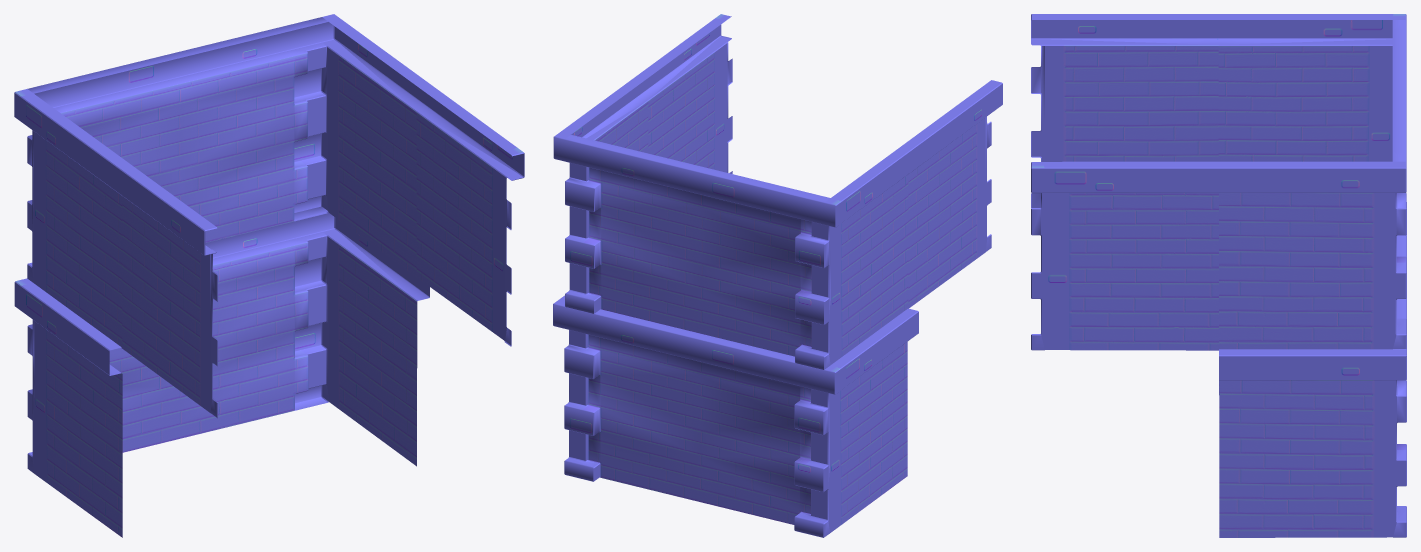
Rendered from HouseLower.fbx.
3 renders of one model, left to right at view 1: azimuth 30°, elevation 25°; view 2: azimuth 150°, elevation 25°; view 3: azimuth 270°, elevation 25°, orthographic. The views are drawn at different scales.
Visible parts, largest first — view 1: HouseWall; view 2: HouseWall; view 3: HouseWall.
Boxes of the visible parts, <box> form: HouseWall: <box>14,14,524,537</box>; HouseWall: <box>553,14,1002,537</box>; HouseWall: <box>1031,14,1406,537</box>.
Bounding box in the file's own units: 132 × 149 × 135.
